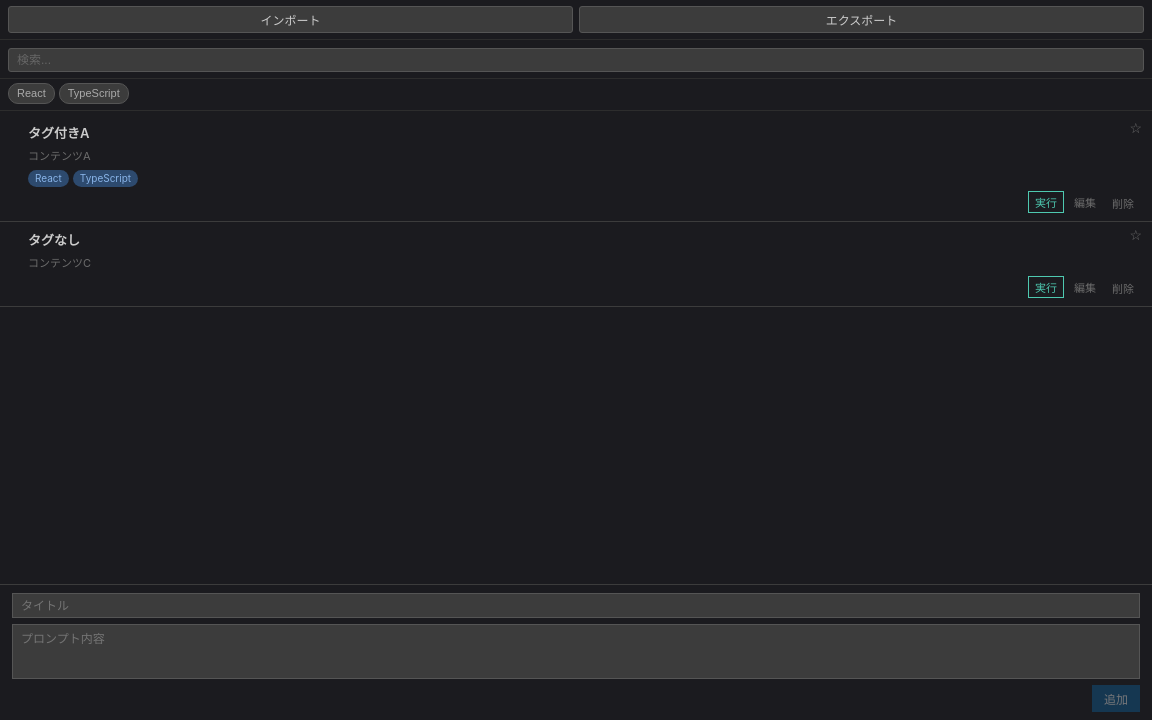
Test: PromptsPanel › タグフィルター › 同じタグをもう一度クリックすると絞り込みが解除される
Click the button "React": (31, 94) [8,83,55,104]
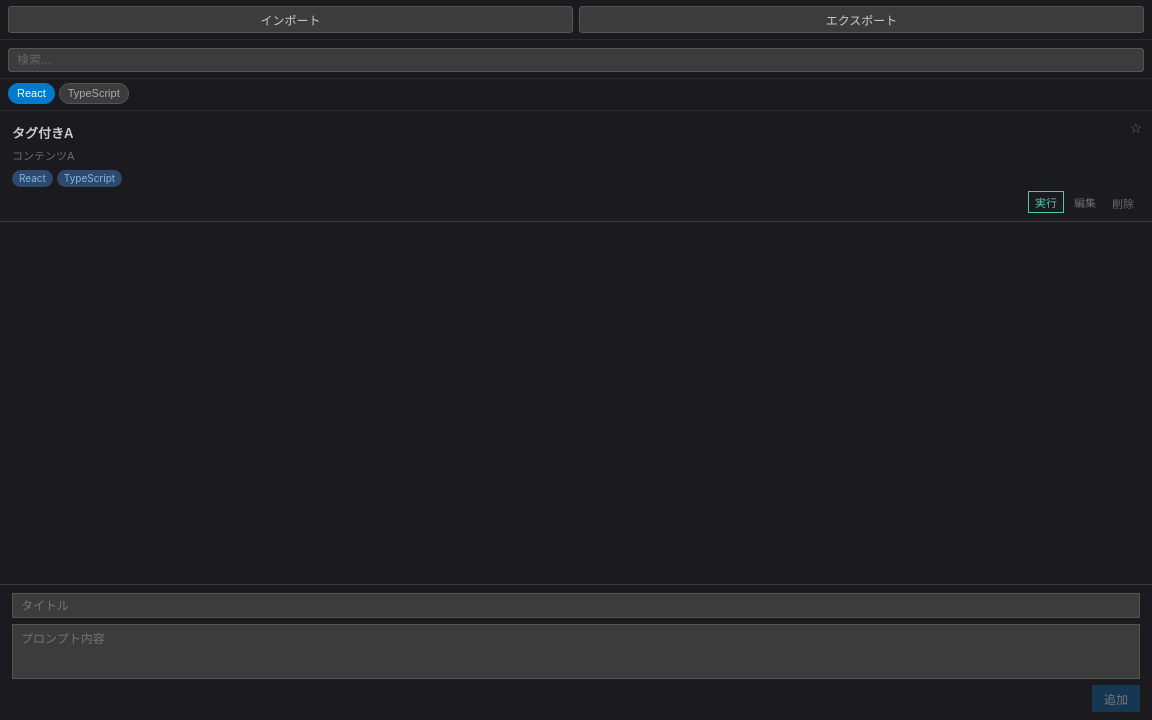
Expected: the text "タグなし" is gone
Click the button "React": (31, 94) [8,83,55,104]
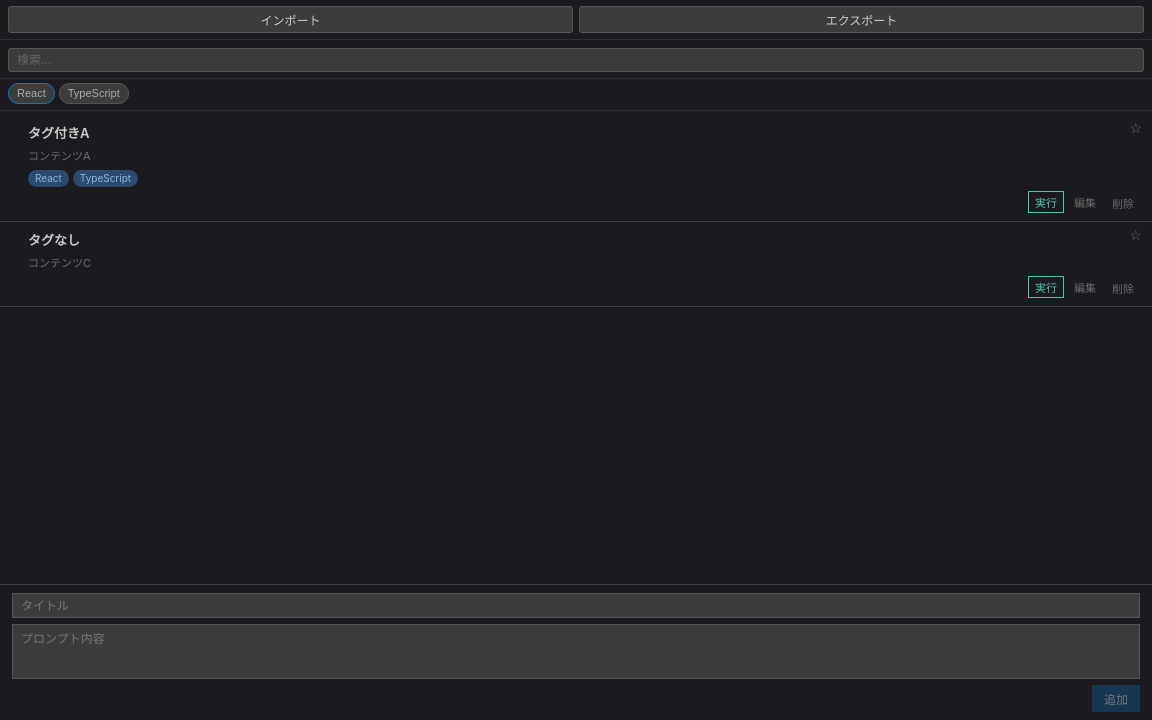
Expected: the text "タグなし" is shown, [28,232,80,248]
